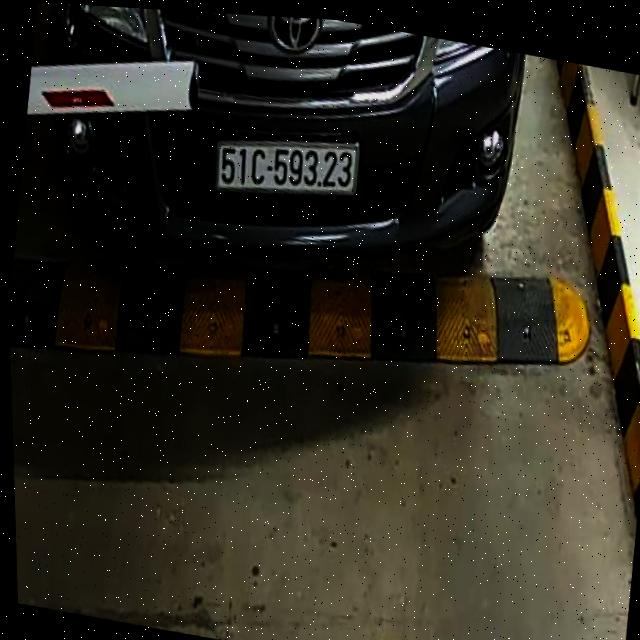car: (18, 1, 542, 316)
plate: (208, 120, 365, 213)
